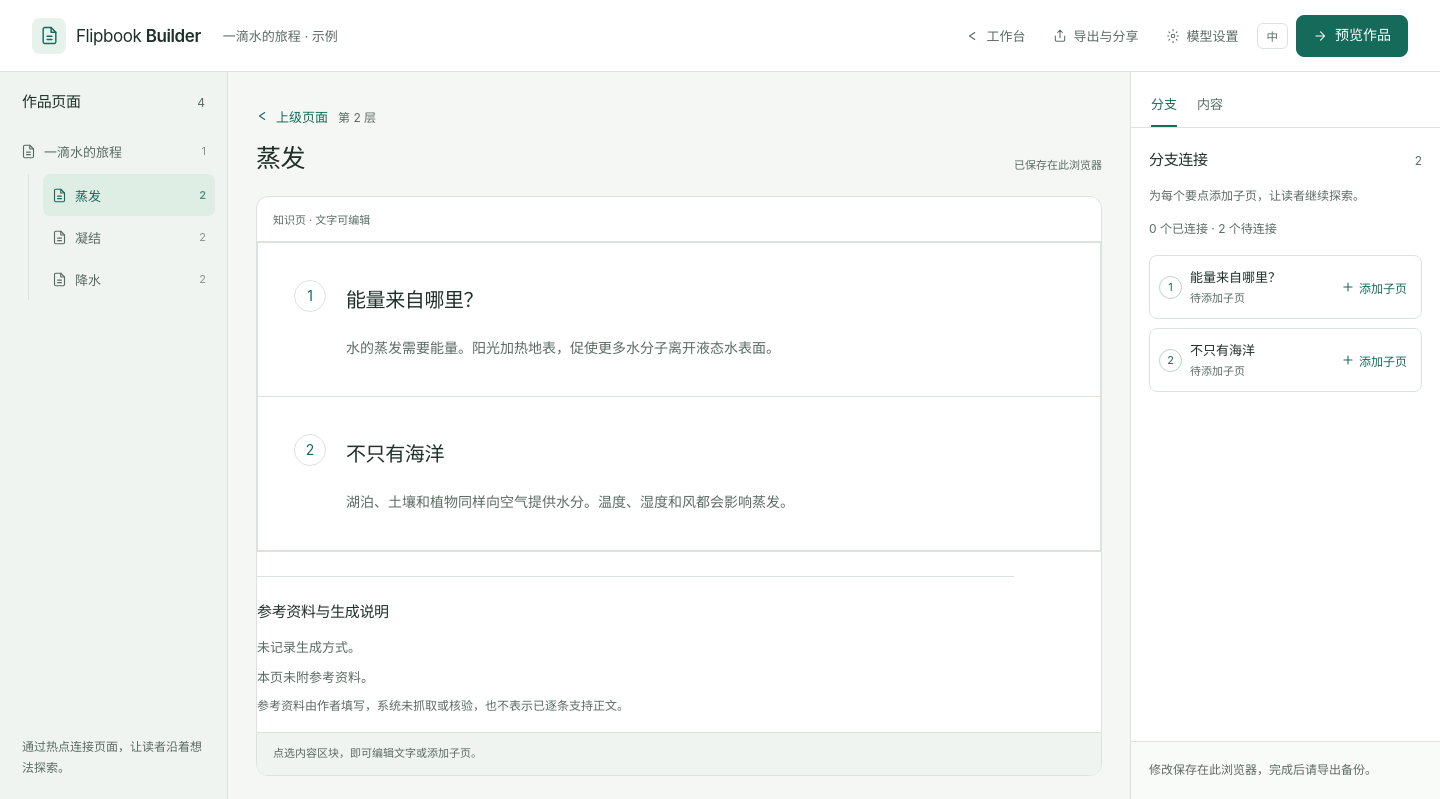
direct local branch workflow › adds a page to an untouched example leaf without first editing or saving its content
Step 1. Click the button with aria-label "添加子页：不只有海洋" → (1374,360), box [1336, 338, 1412, 382]
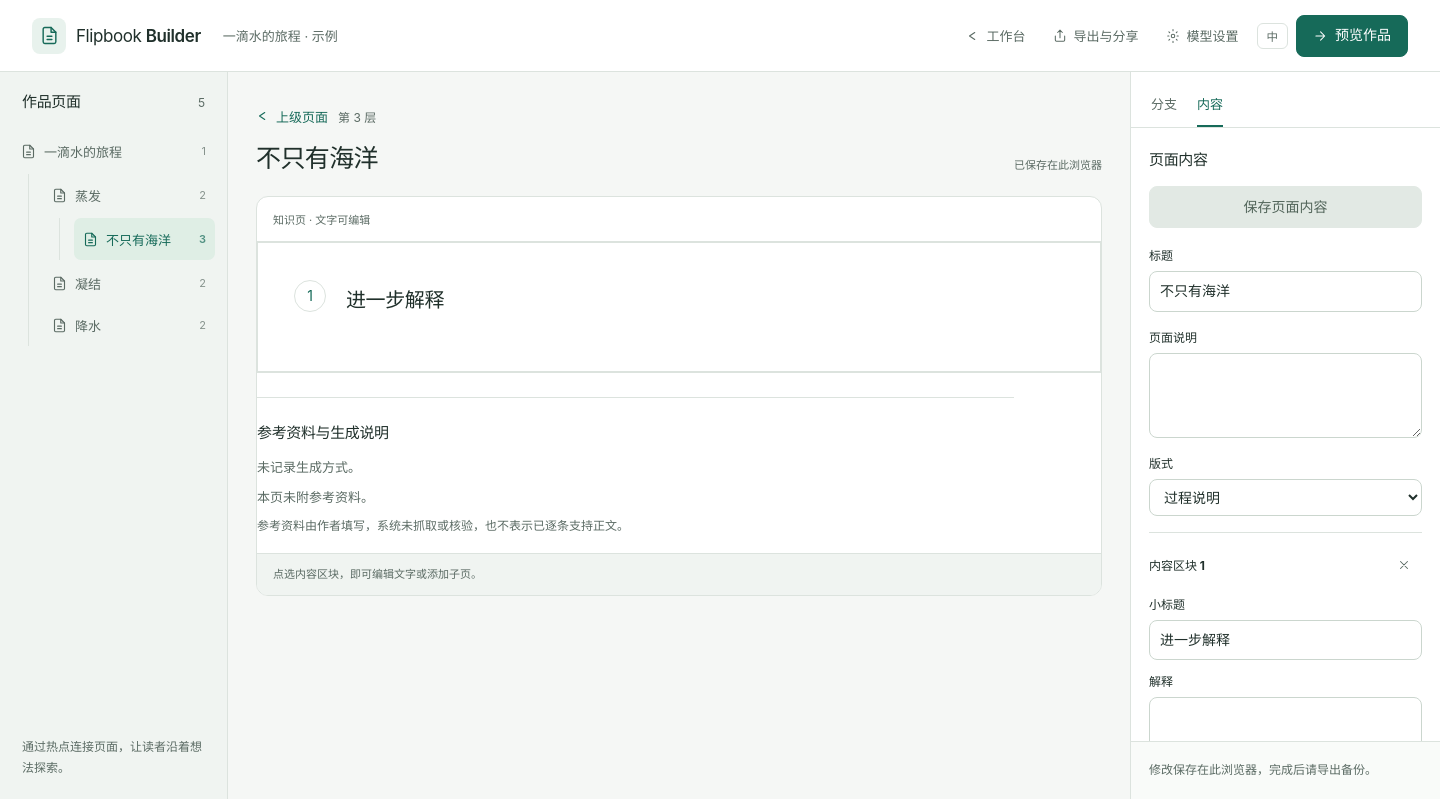
Result: the heading "不只有海洋" is shown at [256, 142, 378, 176]
